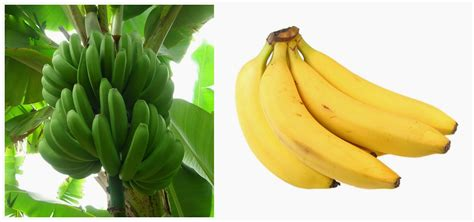banana: (256, 54, 404, 190), (284, 51, 453, 158), (303, 46, 461, 139), (235, 53, 341, 190), (92, 112, 122, 179), (120, 121, 149, 183)
